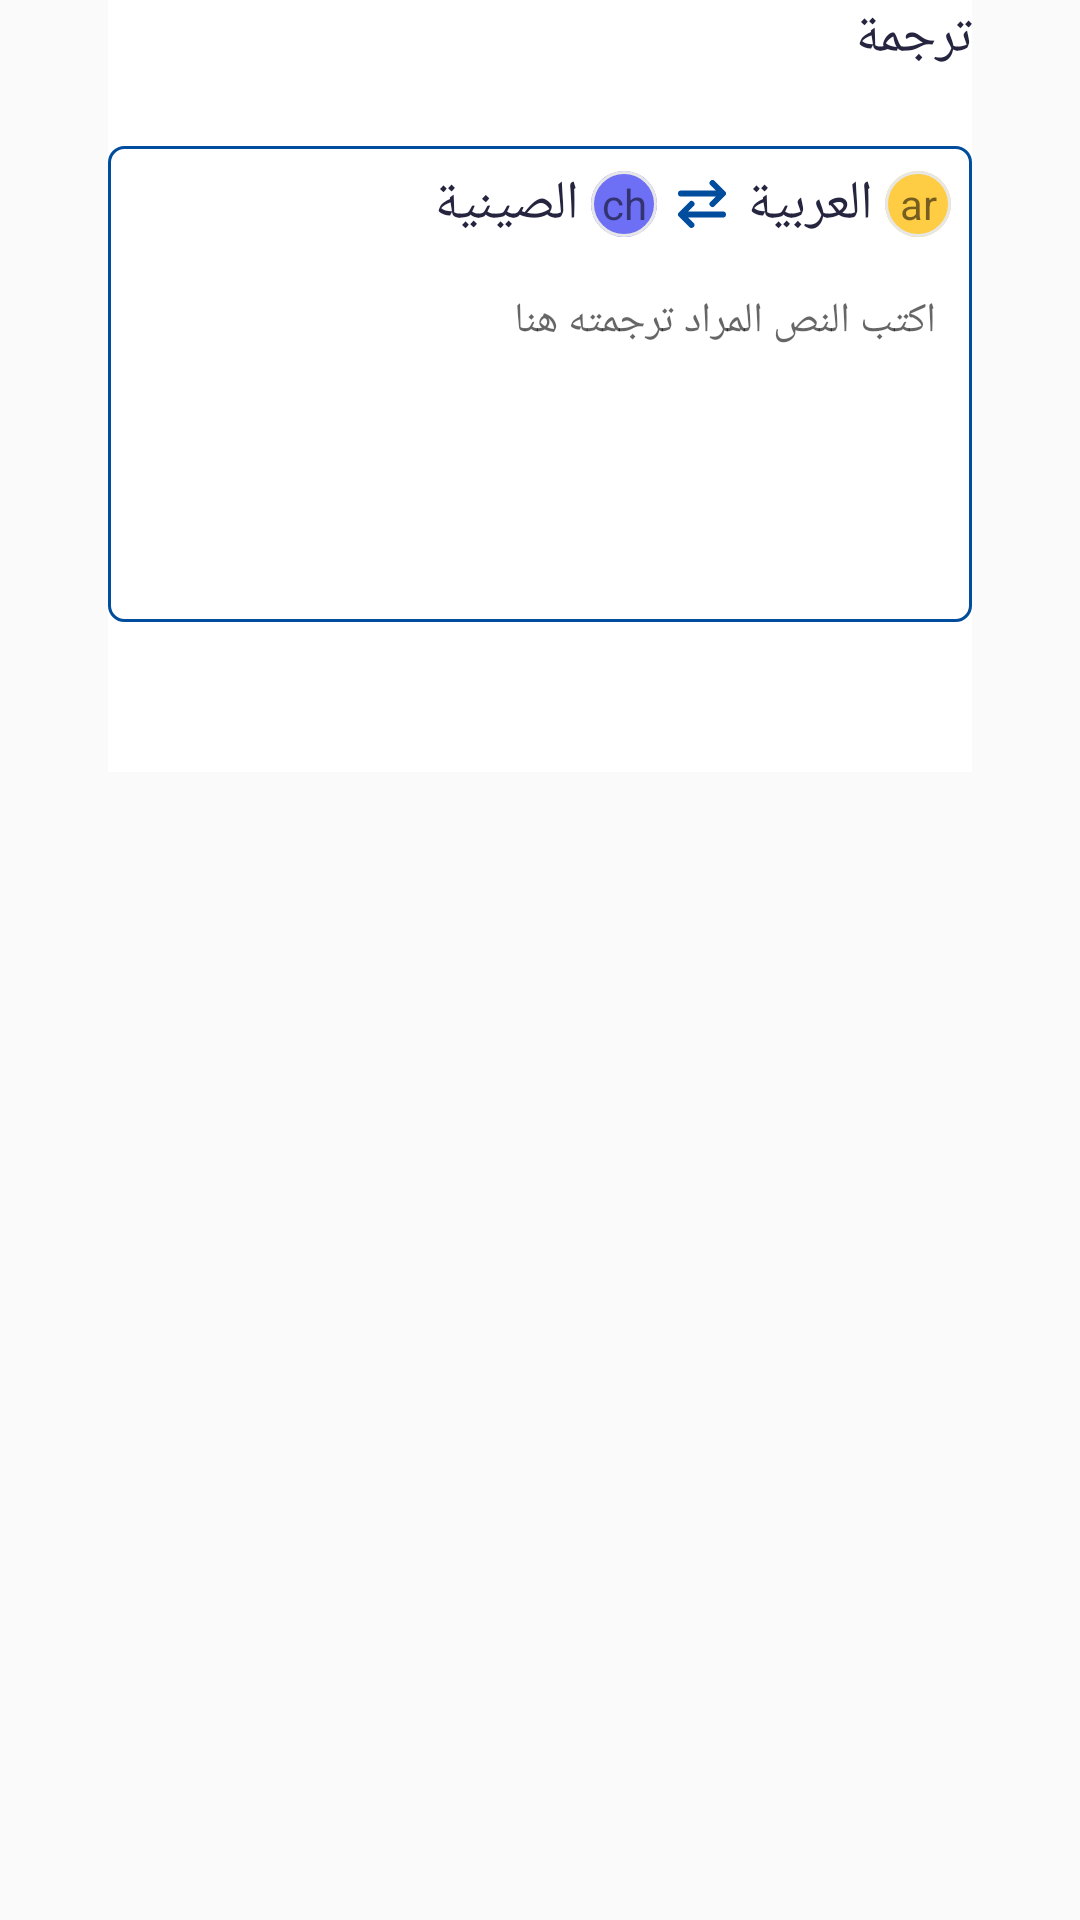

Icon click points for this 1080w x 1920h phone screenshot, format (x,y):
arrow right left: (702,204)
